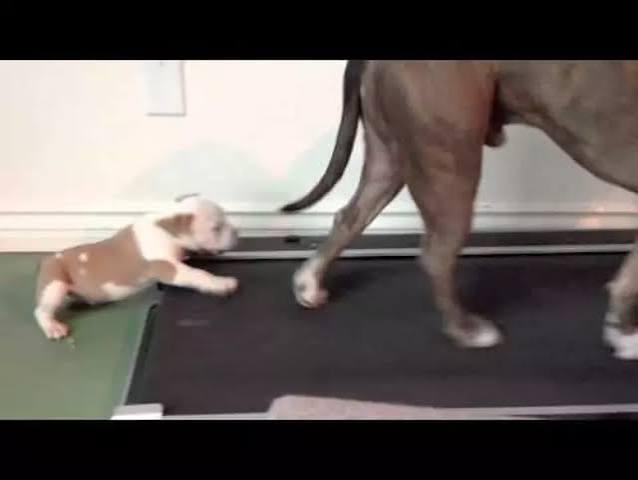adult_dog: (275, 58, 638, 363)
puppy-dog: (35, 195, 237, 340)
